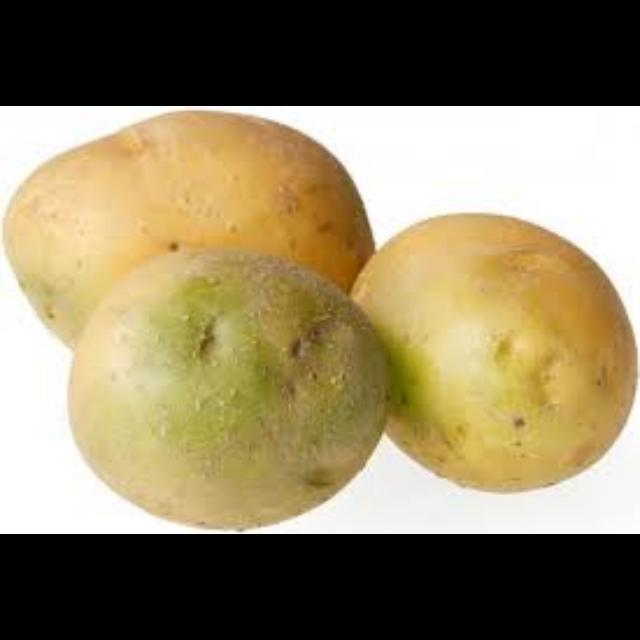Defected potato: (8, 114, 378, 378), (64, 255, 394, 531), (349, 205, 639, 490)
